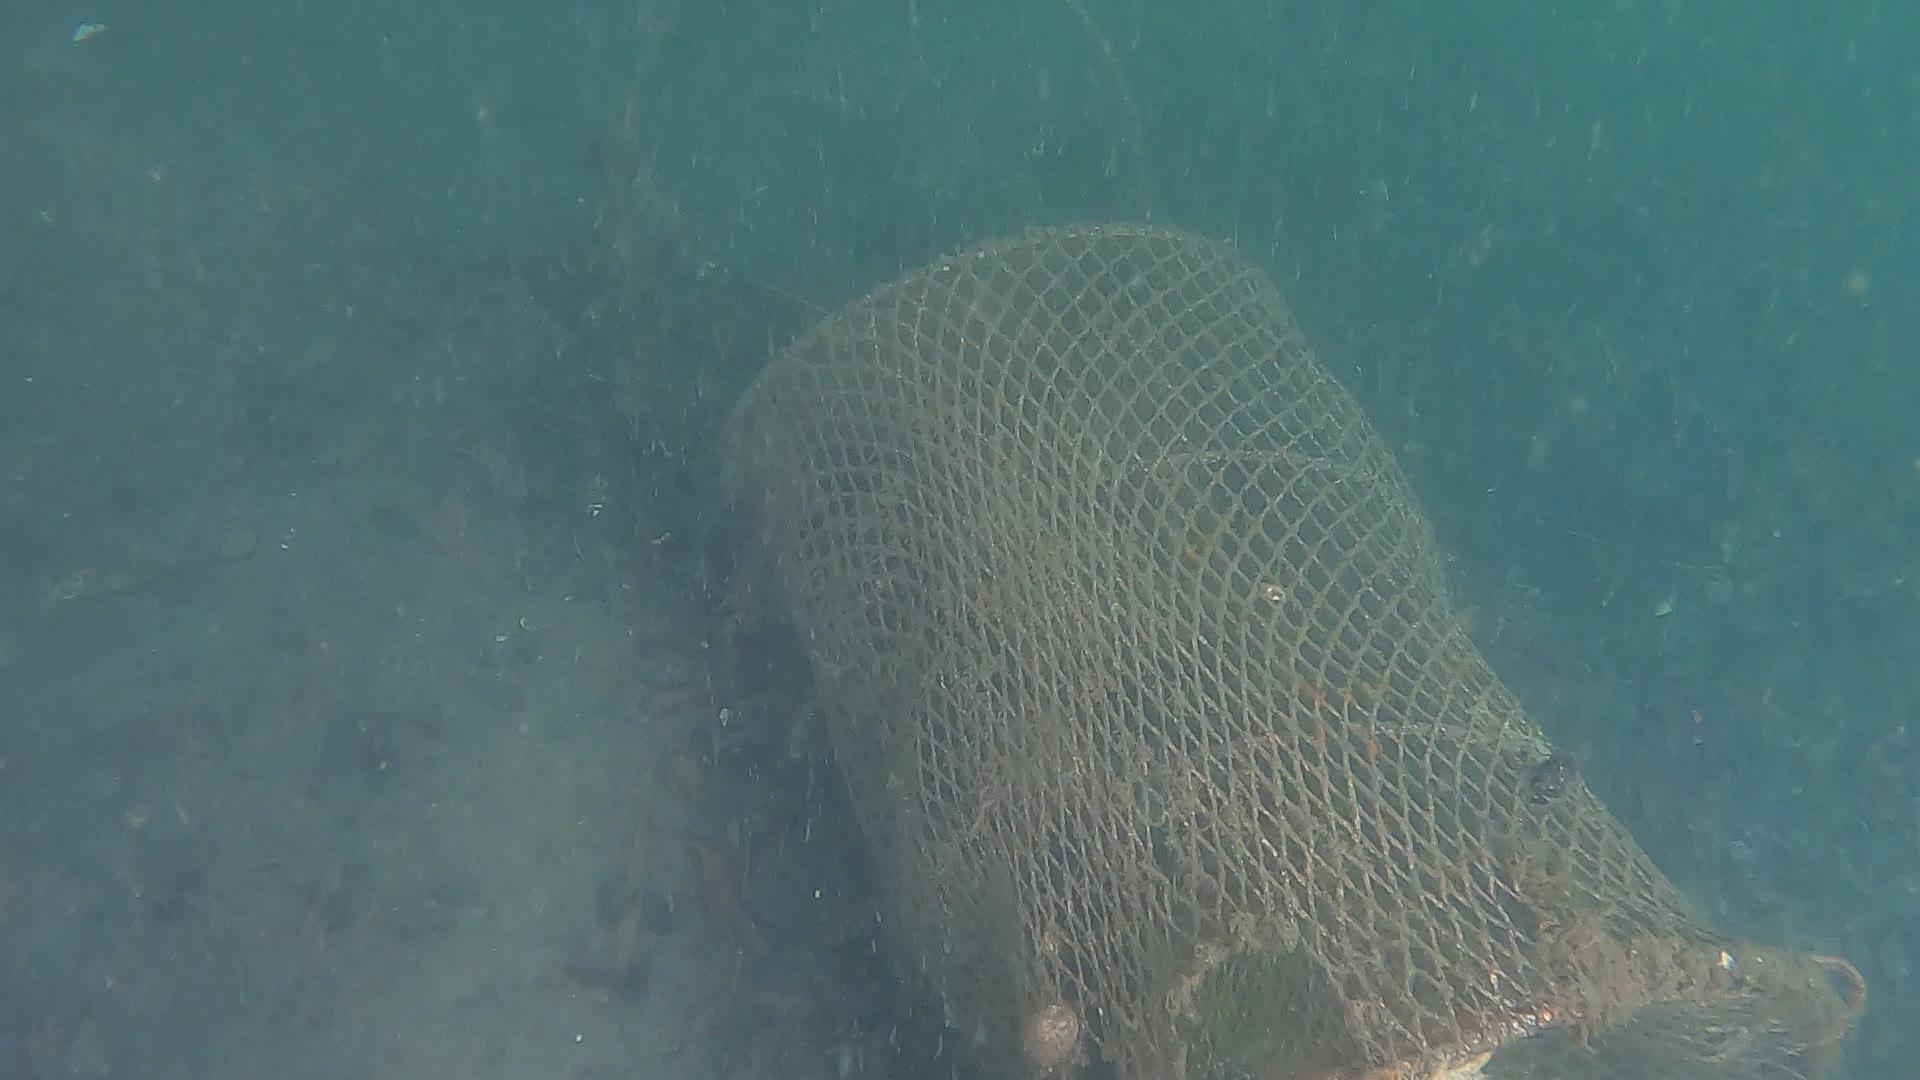spring fish trap: (703, 208, 1861, 1080)
